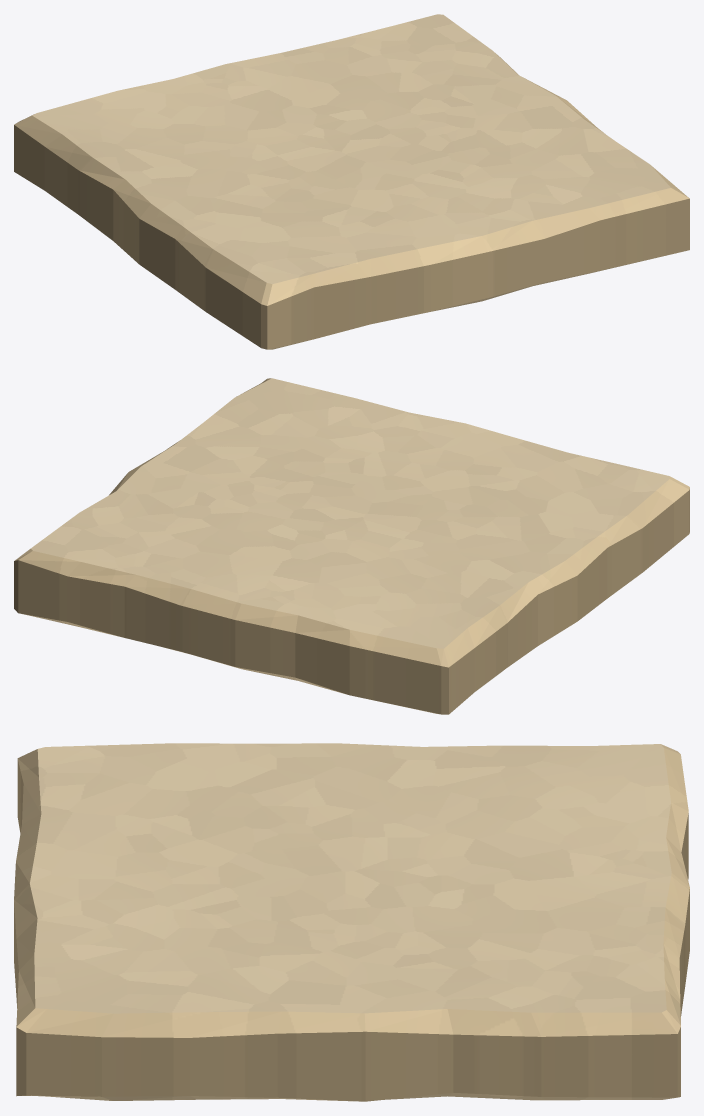
Rendered from tile_c_intact.glb.
3 renders of one model, top to bottom at view 1: azimuth 30°, elevation 25°; view 2: azimuth 150°, elevation 25°; view 3: azimuth 270°, elevation 25°, orthographic. The views are drawn at different scales.
Parts seen in each view (by area): view 1: tile_c_intact; view 2: tile_c_intact; view 3: tile_c_intact.
Part boxes in pixels (x1,y1,x2,y2): tile_c_intact: (14, 14, 689, 349); tile_c_intact: (14, 378, 689, 714); tile_c_intact: (14, 743, 689, 1101).
Bounding box in the file's own units: 2.8 × 0.4 × 2.8.
Materials: 3 (3 with a texture image).
